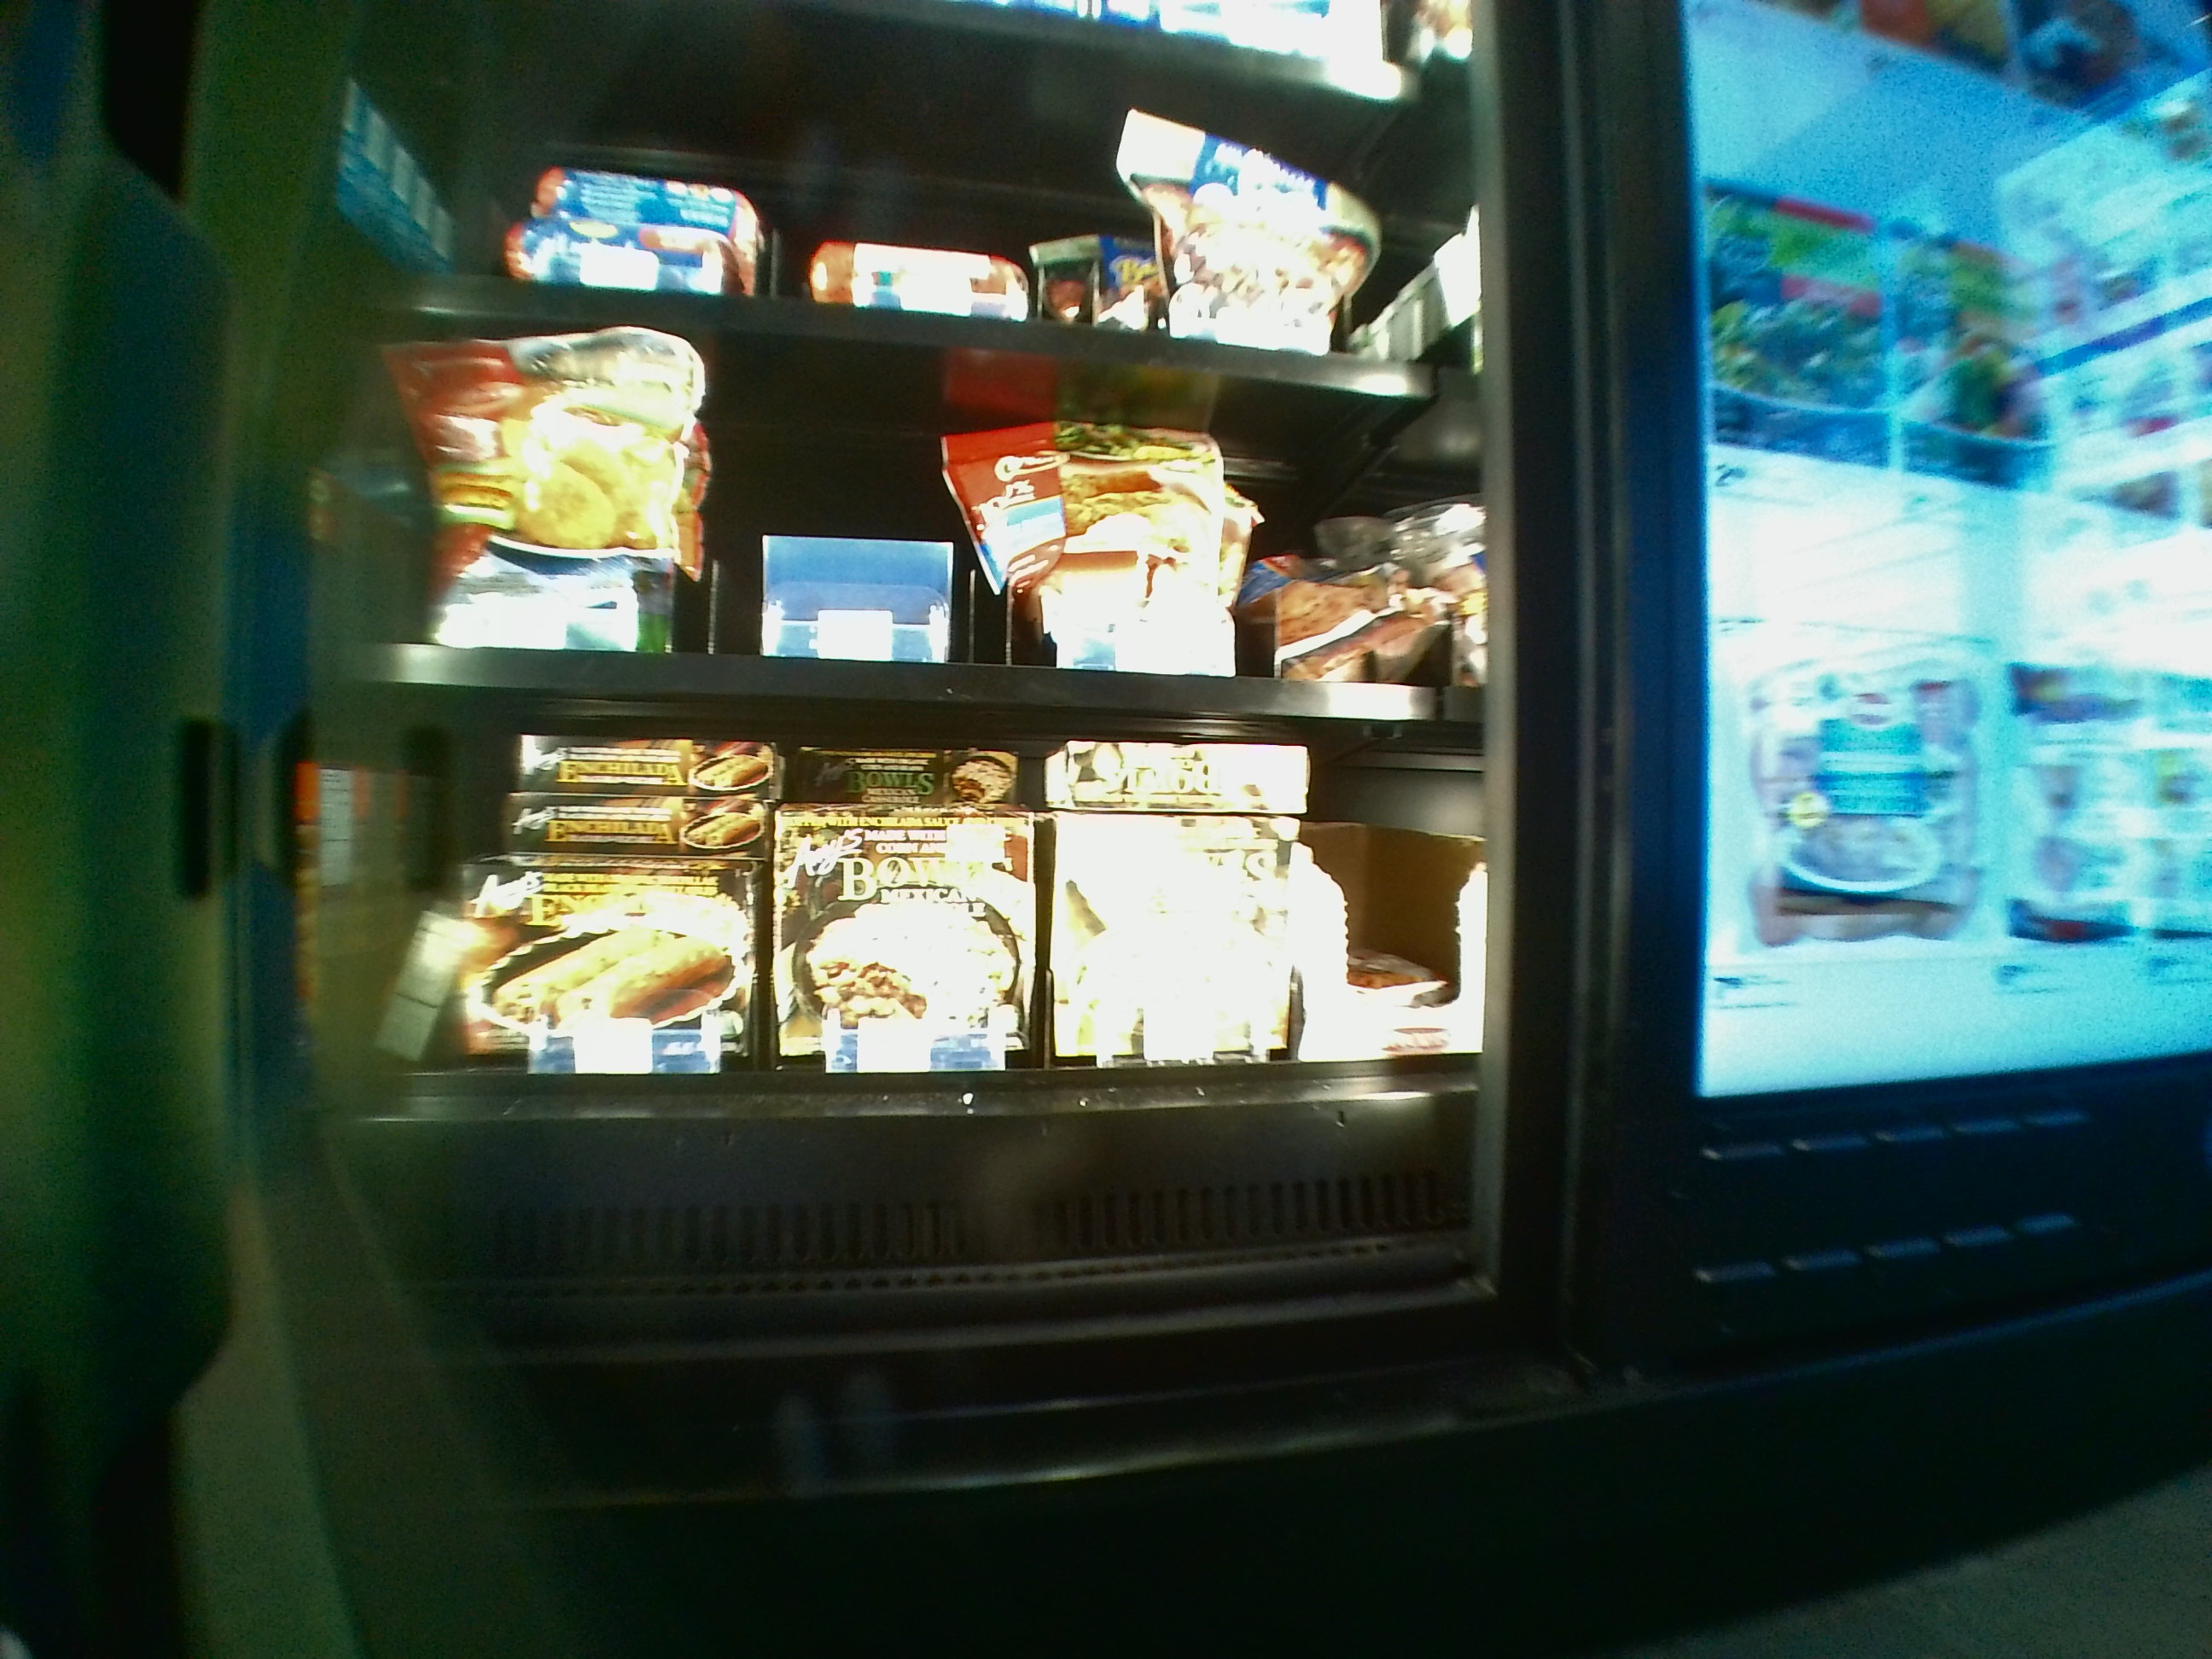shelf: (315, 728, 1479, 1291), (320, 324, 1470, 718)
